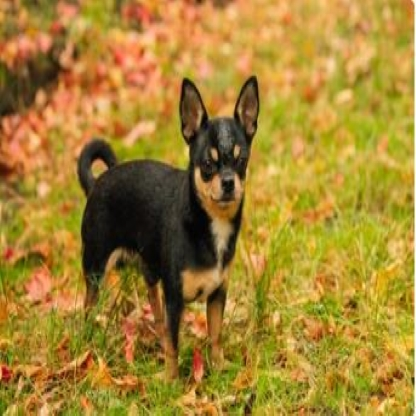chihuahua: (74, 73, 265, 378)
